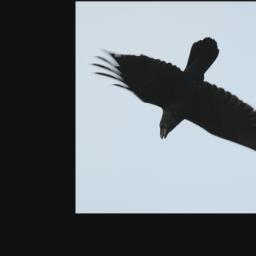Crow: (85, 33, 256, 169)
